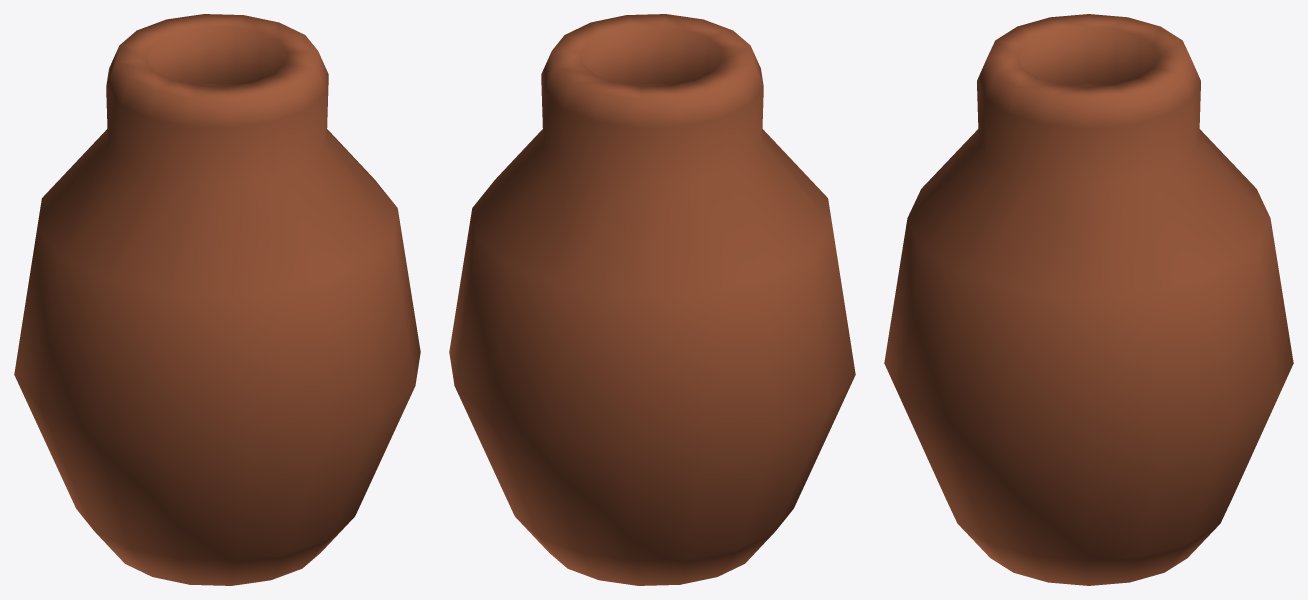
The model's file is exhibit_terracotta_jar.glb.
The picture shows the model from 3 angles, left to right: view 1: azimuth 30°, elevation 25°; view 2: azimuth 150°, elevation 25°; view 3: azimuth 270°, elevation 25°; orthographic projection.
Visible parts, largest first — view 1: Body; view 2: Body; view 3: Body.
Part boxes in pixels (x1,y1,x2,y2): Body: (14,14,420,585); Body: (449,14,855,585); Body: (884,14,1293,585).
Bounding box in the file's own units: 0.23 × 0.3 × 0.23.
